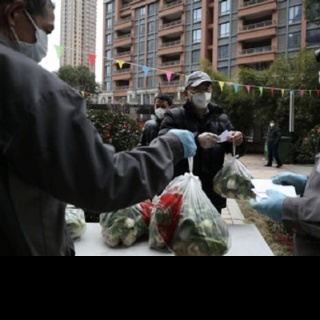with_mask: (16, 20, 55, 62), (190, 84, 212, 110), (153, 104, 169, 120), (268, 120, 275, 128)
